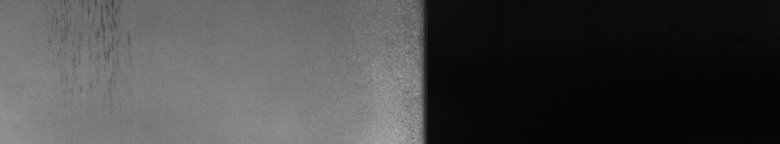ka: (52, 4, 131, 92)
